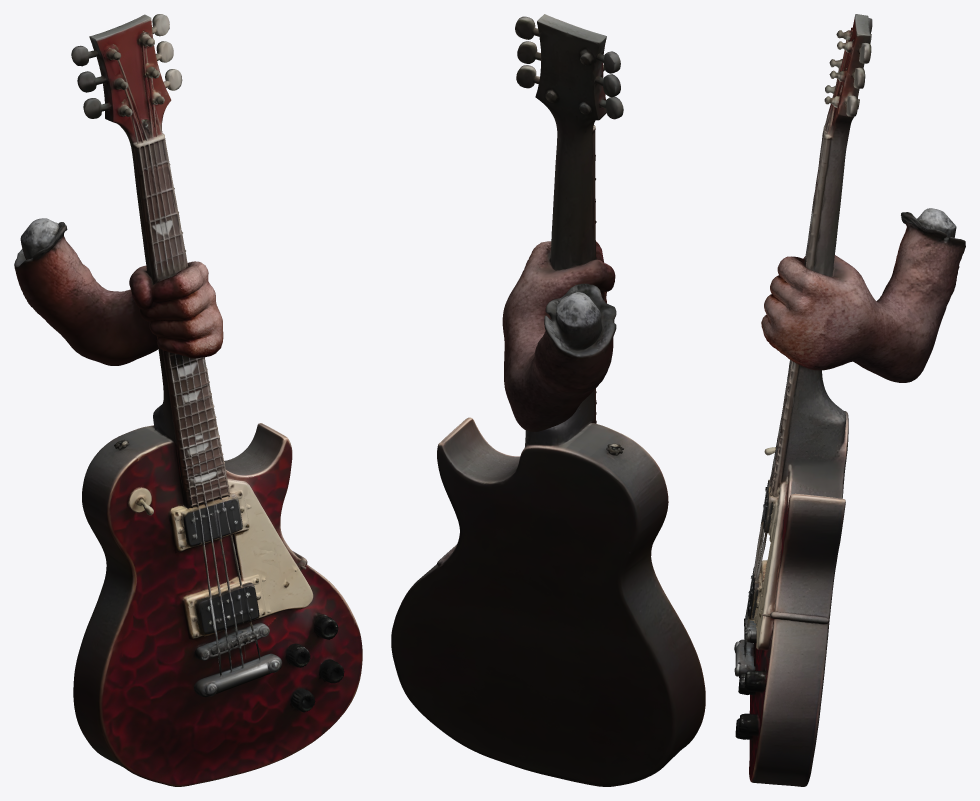
Rendered from electric.glb.
3 renders of one model, left to right at view 1: azimuth 30°, elevation 25°; view 2: azimuth 150°, elevation 25°; view 3: azimuth 270°, elevation 25°, orthographic. The views are drawn at different scales.
Visible parts, largest first — view 1: tripo_node_68043e97-b998-4d9a-9579-d063bb075463; view 2: tripo_node_68043e97-b998-4d9a-9579-d063bb075463; view 3: tripo_node_68043e97-b998-4d9a-9579-d063bb075463.
Boxes of the visible parts, x1=… form: tripo_node_68043e97-b998-4d9a-9579-d063bb075463: x1=14, y1=14, x2=362, y2=786; tripo_node_68043e97-b998-4d9a-9579-d063bb075463: x1=391, y1=14, x2=705, y2=786; tripo_node_68043e97-b998-4d9a-9579-d063bb075463: x1=734, y1=14, x2=965, y2=786.
Bounding box in the file's own units: 0.3699 × 0.9803 × 0.2886.
Materials: 1 (1 with a texture image).
